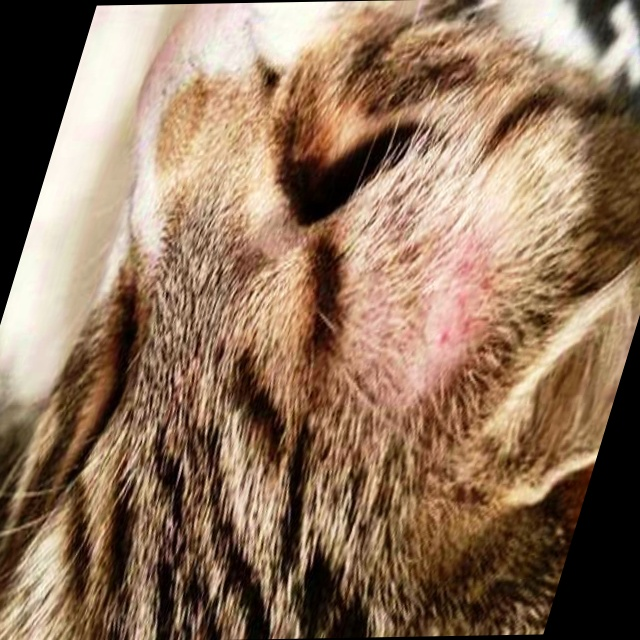ringworm: (350, 198, 524, 403)
